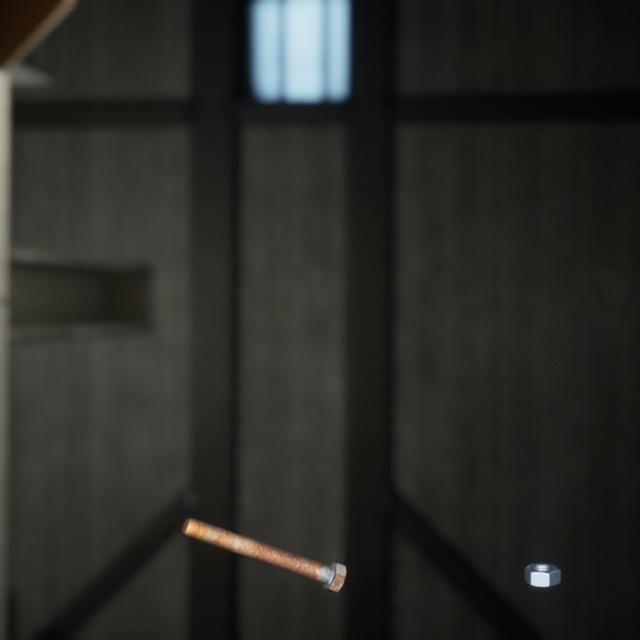bolt: (178, 490, 350, 574)
nut: (520, 535, 565, 568)
